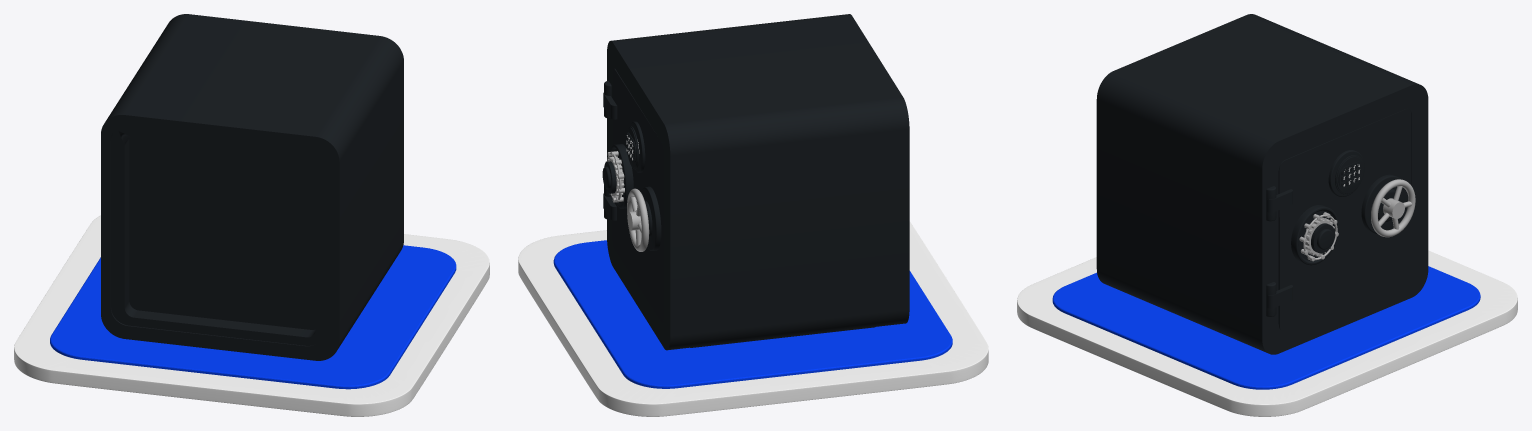
Rendered from not_work.glb.
3 renders of one model, left to right at view 1: azimuth 30°, elevation 25°; view 2: azimuth 150°, elevation 25°; view 3: azimuth 270°, elevation 25°, orthographic. The views are drawn at different scales.
Parts seen in each view (by area): view 1: BOX, T1.016, E1.016; view 2: BOX, T1.016, E1.016, DV, Torus; view 3: BOX, DV, T1.016, E1.016, Torus, Cylinder.1_0, Cylinder_3.
Boxes of the visible parts, bbox=[...] form: BOX: bbox=[101, 14, 403, 360]; T1.016: bbox=[14, 215, 489, 416]; E1.016: bbox=[50, 245, 456, 389]; BOX: bbox=[607, 14, 909, 350]; T1.016: bbox=[518, 221, 988, 416]; E1.016: bbox=[553, 240, 952, 388]; DV: bbox=[602, 68, 663, 323]; Torus: bbox=[627, 188, 649, 251]; BOX: bbox=[1096, 14, 1428, 354]; DV: bbox=[1266, 108, 1411, 330]; T1.016: bbox=[1017, 250, 1517, 416]; E1.016: bbox=[1052, 266, 1480, 389]; Torus: bbox=[1371, 179, 1415, 237]; Cylinder.1_0: bbox=[1299, 212, 1338, 261]; Cylinder_3: bbox=[1328, 150, 1364, 196].
Bounding box in the file's own units: 2.42 × 1.24 × 2.42.
